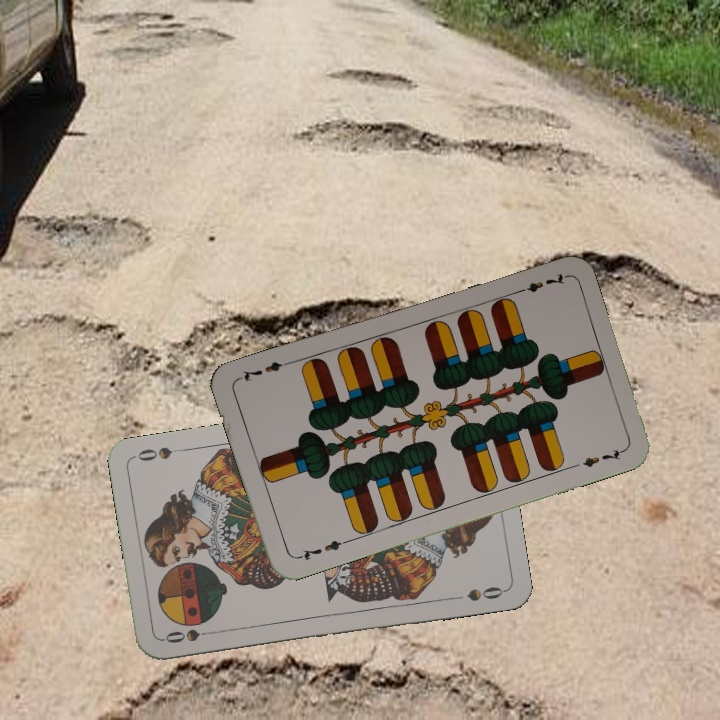E7: (293, 536, 350, 563), (511, 270, 568, 297)
SO: (160, 625, 219, 646)
